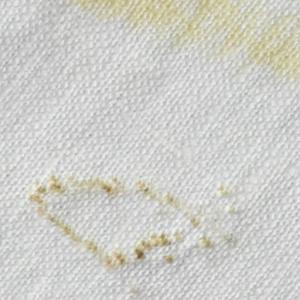Oil Stain: (26, 171, 242, 297)
Stain: (58, 1, 300, 89)
